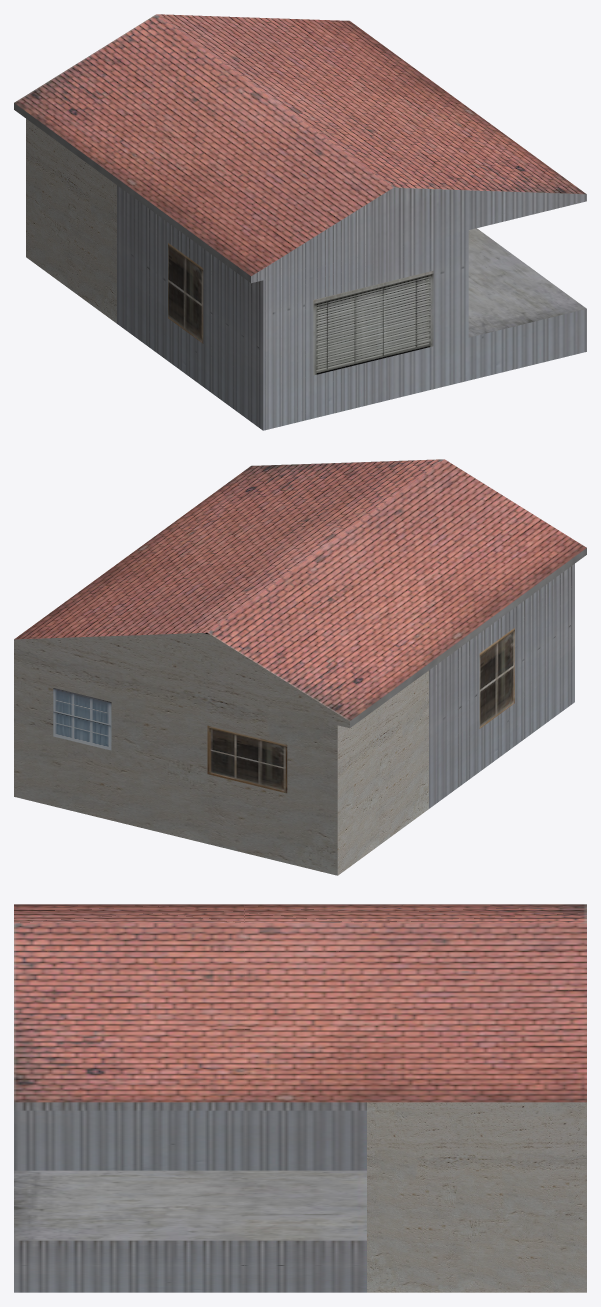
File: sb_civil_garage_mj.fbx
The picture shows the model from 3 angles, top to bottom: view 1: azimuth 30°, elevation 25°; view 2: azimuth 150°, elevation 25°; view 3: azimuth 270°, elevation 25°; orthographic projection. The views are drawn at different scales.
Parts seen in each view (by area): view 1: sb_civil_garage_mj; view 2: sb_civil_garage_mj; view 3: sb_civil_garage_mj.
Boxes of the visible parts, <box> form: sb_civil_garage_mj: <box>14,14,586,430</box>; sb_civil_garage_mj: <box>14,459,586,875</box>; sb_civil_garage_mj: <box>14,904,586,1292</box>.
Size of the model in its own units: 8.18 by 4.91 by 10.
